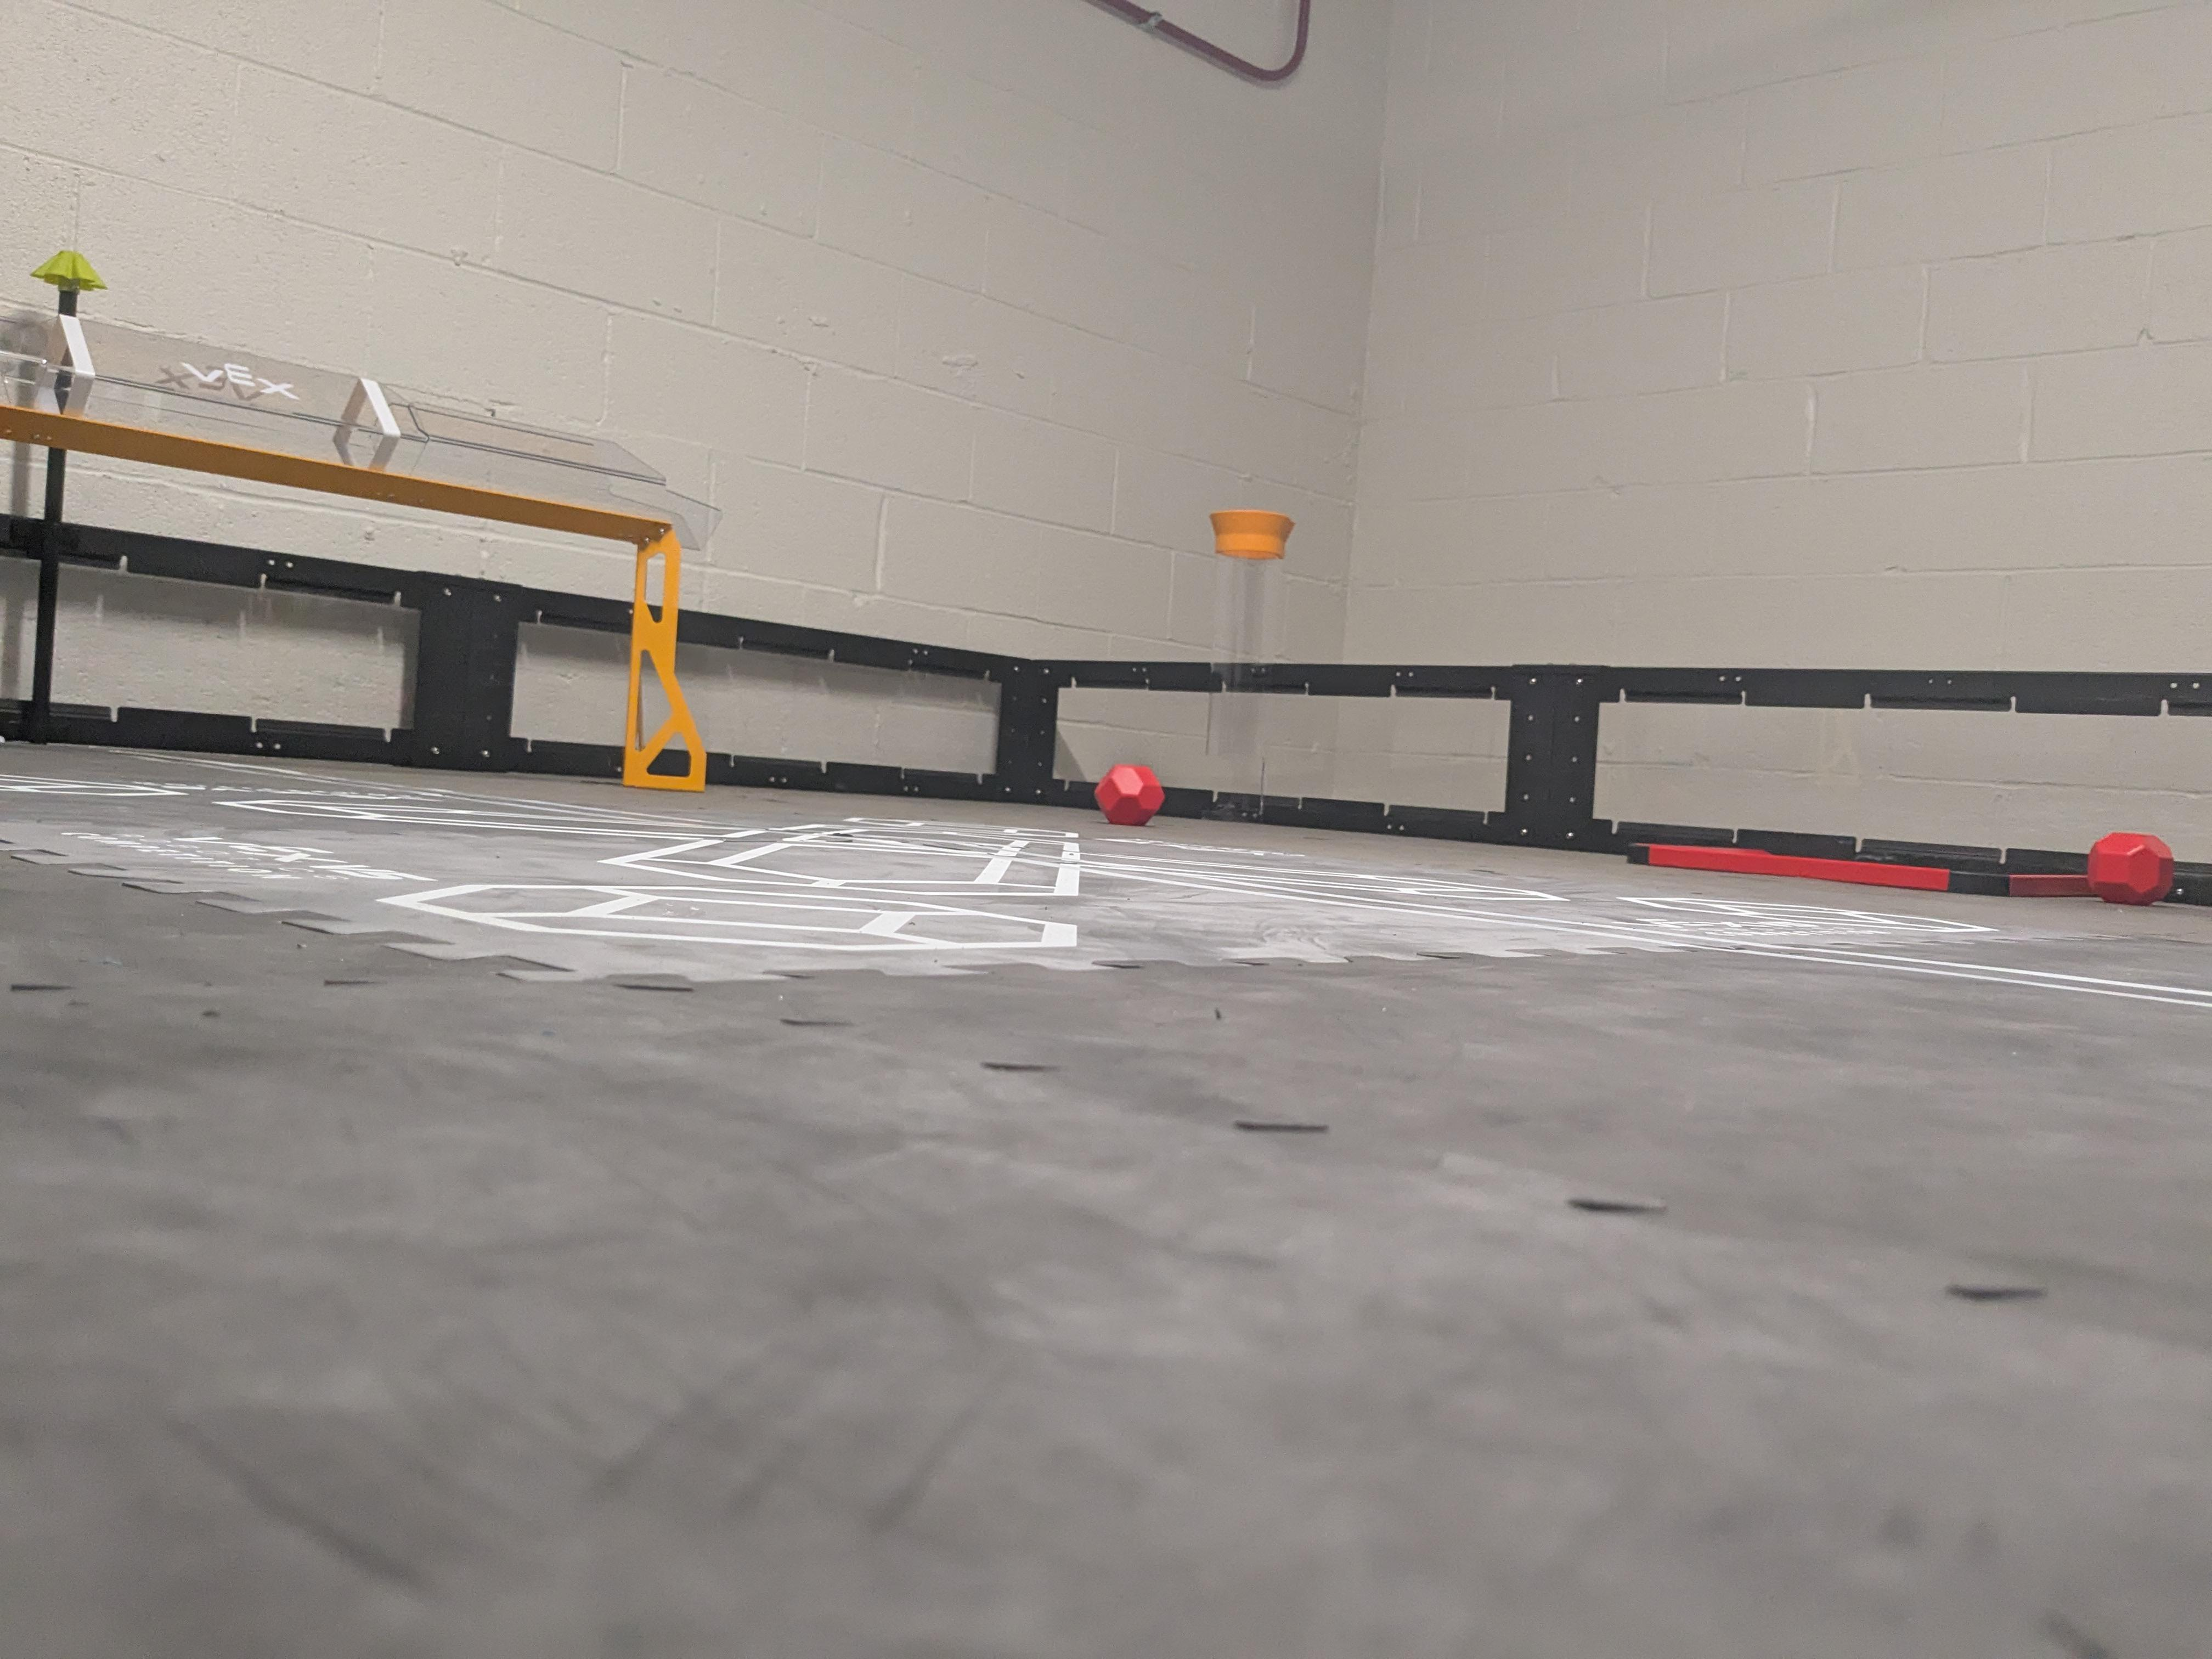Vex-Pieces-RED: (2087, 833, 2174, 904), (1096, 765, 1163, 824)
